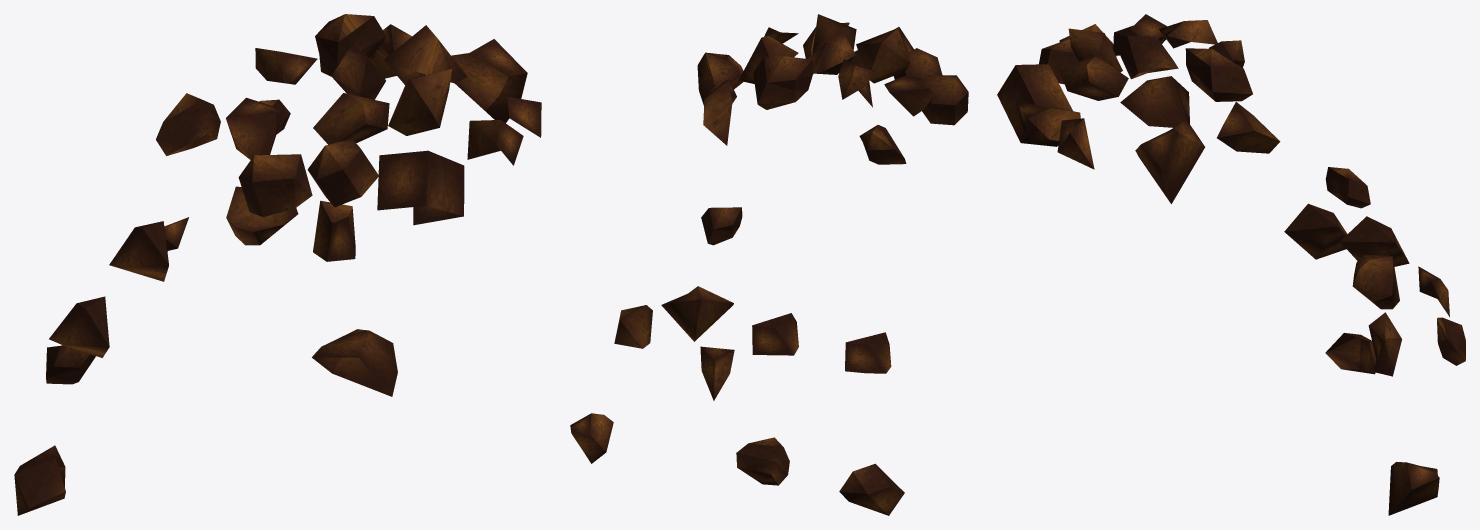
The model's file is chocochip.obj.
The picture shows the model from 3 angles, left to right: view 1: azimuth 30°, elevation 25°; view 2: azimuth 150°, elevation 25°; view 3: azimuth 270°, elevation 25°; orthographic projection. The views are drawn at different scales.
Parts seen in each view (by area): view 1: event_obj_kt3_chocolatesundae_root_000_ncl1_1.002; view 2: event_obj_kt3_chocolatesundae_root_000_ncl1_1.002; view 3: event_obj_kt3_chocolatesundae_root_000_ncl1_1.002.
Boxes of the visible parts, left/top/right/bottom form: event_obj_kt3_chocolatesundae_root_000_ncl1_1.002: left=14, top=14, right=541, bottom=515; event_obj_kt3_chocolatesundae_root_000_ncl1_1.002: left=570, top=14, right=968, bottom=515; event_obj_kt3_chocolatesundae_root_000_ncl1_1.002: left=997, top=14, right=1465, bottom=515.
Bounding box in the file's own units: 22.55 × 26.75 × 27.39.
